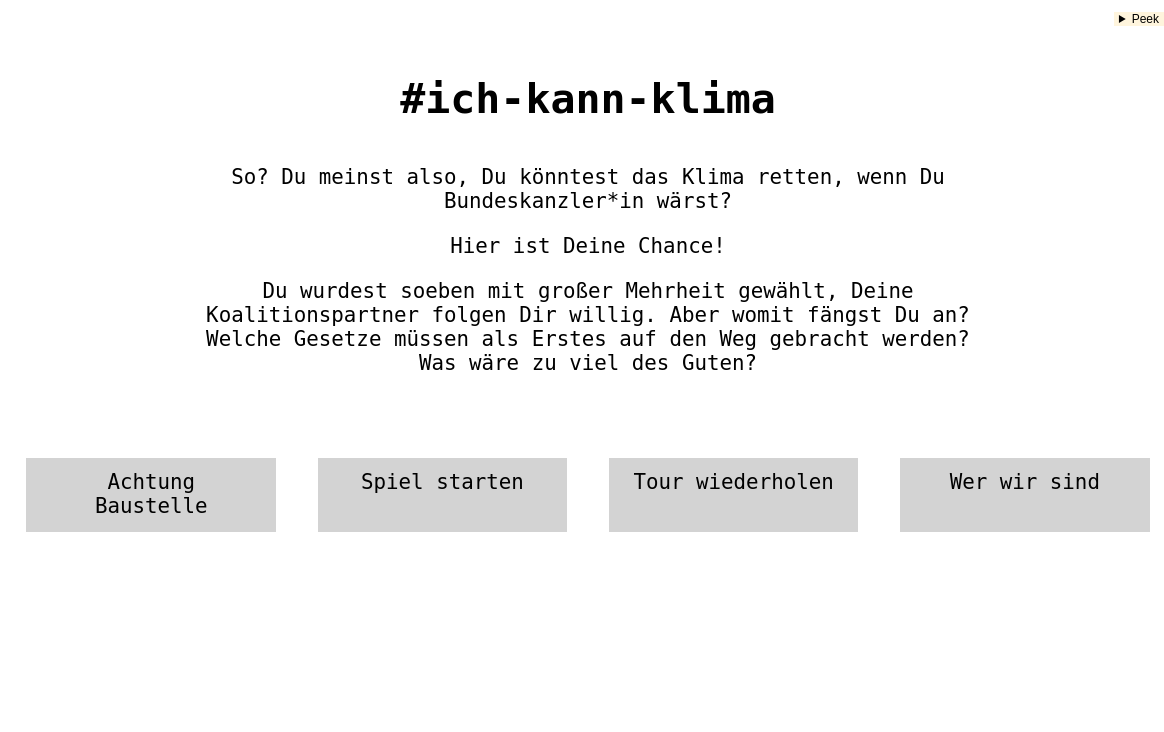
Scenario: GameStart › should display the game page when the game is started
Click the text "Spiel starten" at (443, 495), box [318, 458, 568, 532]
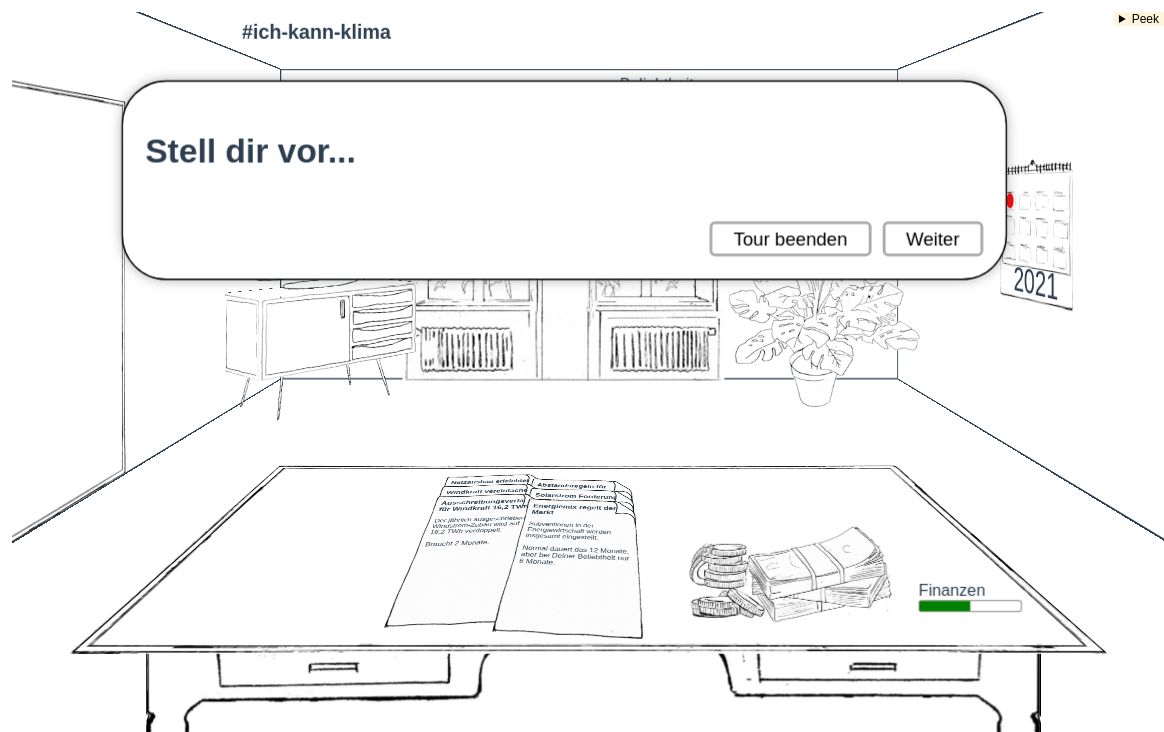
expect the element with class "game-setup" is shown: met
